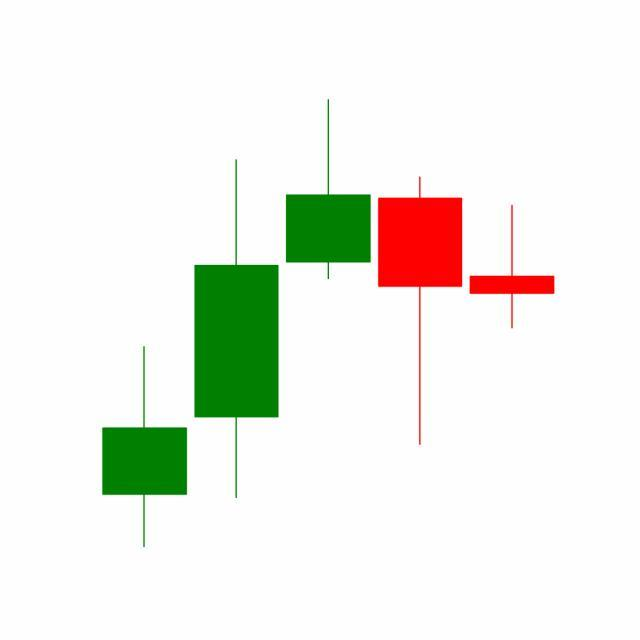Upside-Downside Gap Three Methods: (190, 100, 467, 504)
